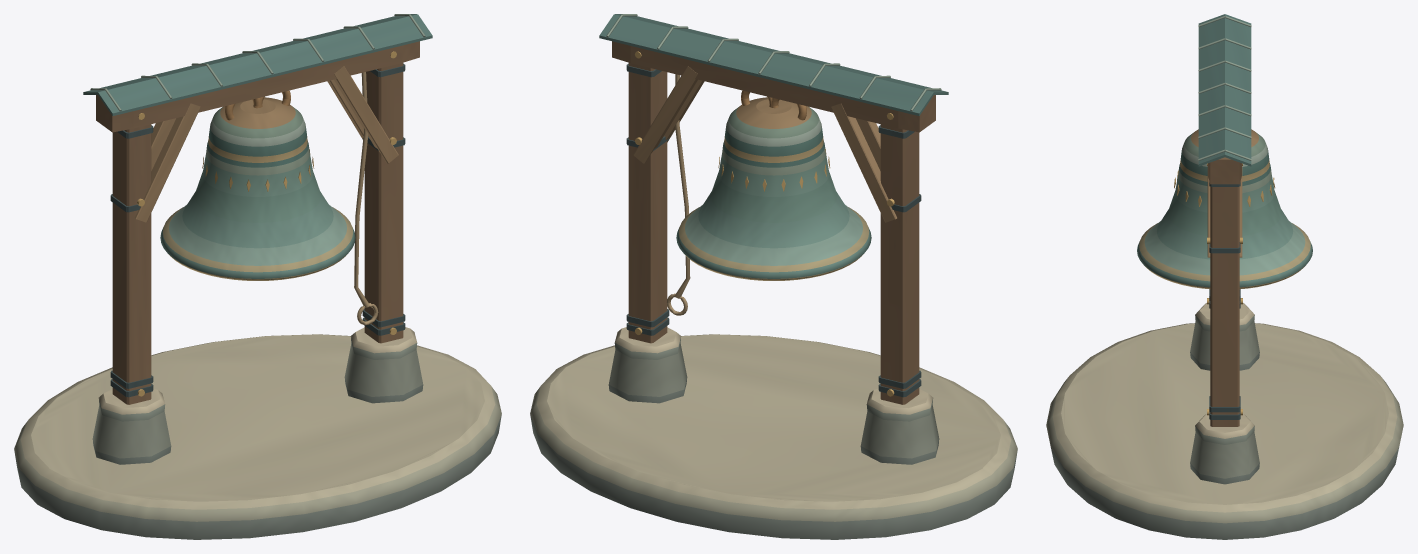
File: cape_bell.glb
3 views of the same model, side by side, from view 1: azimuth 30°, elevation 25°; view 2: azimuth 150°, elevation 25°; view 3: azimuth 270°, elevation 25° (orthographic). The views are drawn at different scales.
Visible parts, largest first — view 1: FogBell; view 2: FogBell; view 3: FogBell.
Part boxes in pixels (x1,y1,x2,y2): FogBell: (14, 14, 501, 539); FogBell: (530, 14, 1017, 539); FogBell: (1046, 14, 1403, 539).
Size of the model in its own units: 7.22 by 6.18 by 5.56.
1 material, 1 textured.
